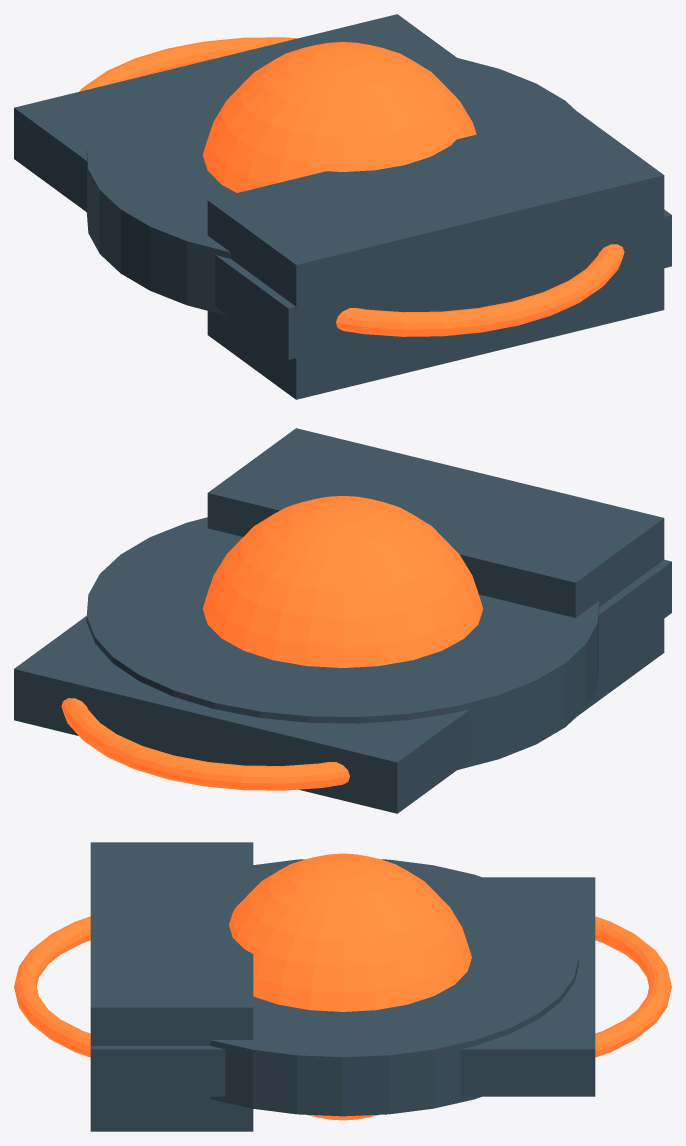
Rendered from station-kit.glb.
The picture shows the model from 3 angles, top to bottom: view 1: azimuth 30°, elevation 25°; view 2: azimuth 150°, elevation 25°; view 3: azimuth 270°, elevation 25°; orthographic projection. The views are drawn at different scales.
Visible parts, largest first — view 1: Console Base, Reactor Housing, Door Frame, Reactor Orb, Reactor Energy Ring, Reactor Energy Ring.001; view 2: Reactor Housing, Console Base, Reactor Orb, Door Frame, Reactor Energy Ring.001; view 3: Reactor Housing, Console Base, Reactor Orb, Door Frame, Reactor Energy Ring, Reactor Energy Ring.001.
Boxes of the visible parts, bbox=[...] form: Console Base: bbox=[207, 110, 664, 399]; Reactor Housing: bbox=[86, 48, 575, 316]; Door Frame: bbox=[14, 14, 671, 359]; Reactor Orb: bbox=[203, 42, 476, 192]; Reactor Energy Ring: bbox=[336, 244, 624, 336]; Reactor Energy Ring.001: bbox=[79, 37, 297, 91]; Reactor Housing: bbox=[86, 517, 599, 769]; Console Base: bbox=[207, 428, 664, 716]; Reactor Orb: bbox=[202, 496, 483, 667]; Door Frame: bbox=[14, 559, 671, 813]; Reactor Energy Ring.001: bbox=[61, 698, 349, 790]; Reactor Housing: bbox=[210, 859, 578, 1116]; Console Base: bbox=[90, 842, 253, 1131]; Reactor Orb: bbox=[229, 853, 471, 1120]; Door Frame: bbox=[90, 877, 595, 1096]; Reactor Energy Ring: bbox=[14, 916, 90, 1057]; Reactor Energy Ring.001: bbox=[595, 916, 671, 1057].
Bounding box in the file's own units: 2.9 × 1.64 × 4.04.
